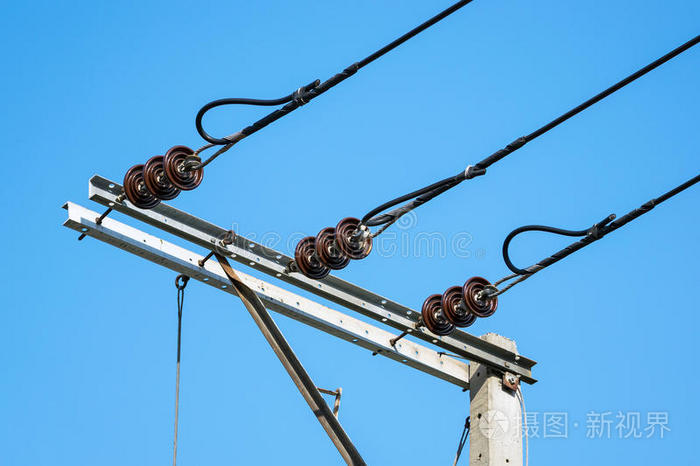insulator: (124, 144, 206, 212), (293, 216, 374, 281), (423, 277, 499, 335)
